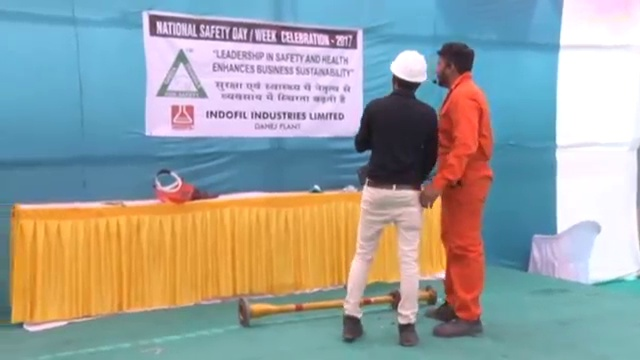helmet: (389, 49, 428, 86)
helmet_off: (435, 40, 475, 91)
helmet_on: (386, 49, 430, 98)
person: (342, 49, 423, 341), (423, 39, 494, 336)
